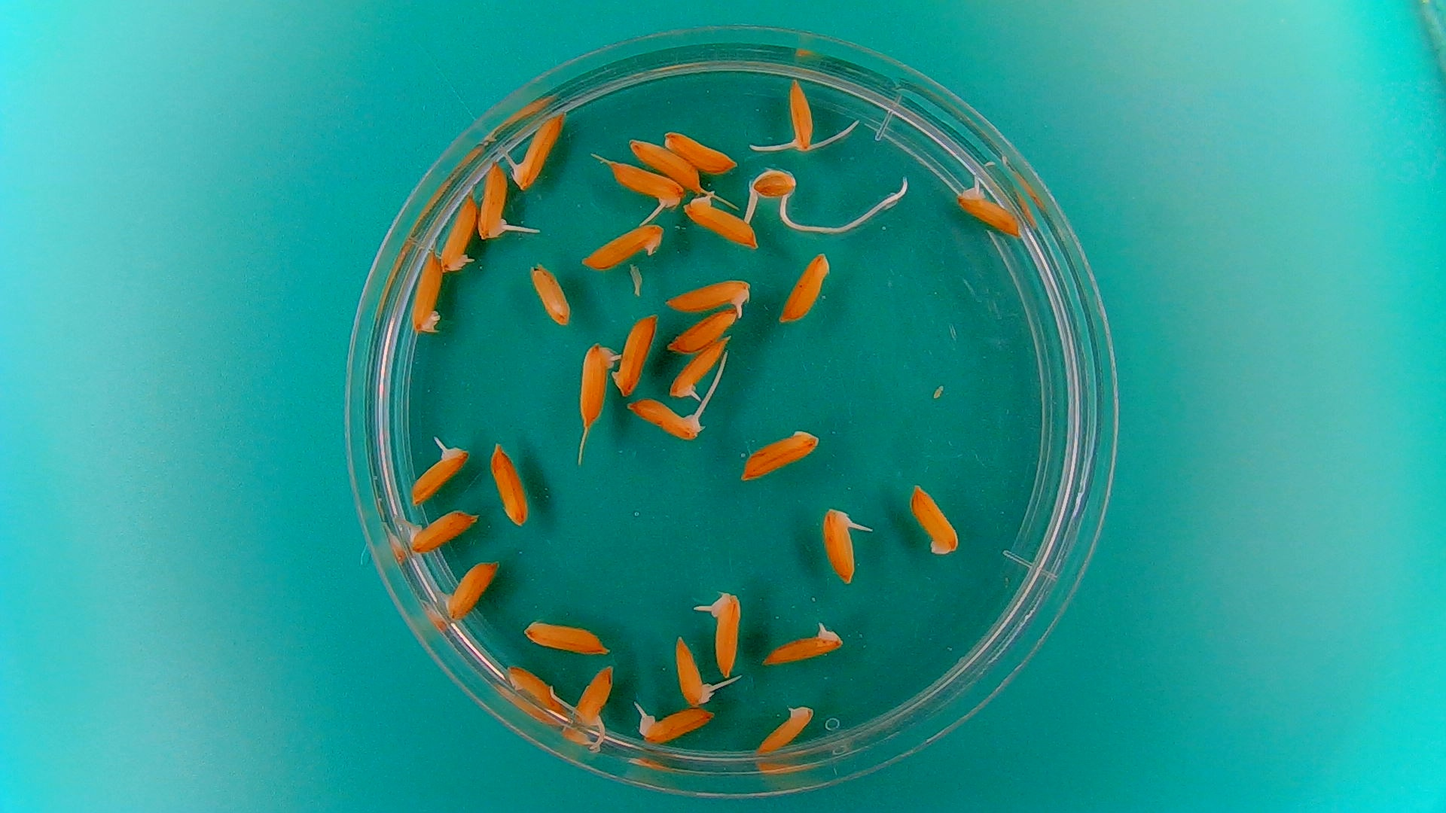no: (738, 425, 822, 483), (579, 218, 667, 272), (626, 136, 702, 193), (908, 481, 962, 559), (613, 311, 660, 398), (779, 248, 832, 325), (664, 305, 745, 355), (488, 439, 532, 527), (754, 699, 818, 756), (660, 128, 738, 172), (506, 661, 569, 715), (407, 245, 444, 336), (527, 260, 571, 327), (527, 620, 604, 656)
yes: (511, 114, 565, 188), (680, 199, 761, 248), (612, 159, 687, 211), (664, 274, 753, 317), (667, 338, 728, 400), (953, 187, 1026, 238), (409, 446, 471, 505), (633, 705, 716, 746), (759, 625, 840, 667), (444, 560, 500, 620), (407, 510, 480, 555), (578, 344, 616, 430), (706, 593, 744, 679), (437, 192, 477, 273), (631, 397, 700, 443), (674, 632, 715, 706), (478, 157, 512, 238), (572, 664, 615, 726), (823, 507, 857, 582), (745, 168, 806, 206), (786, 80, 816, 151)
